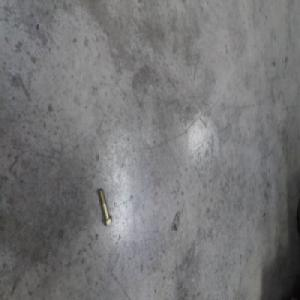Bolt: (96, 187, 113, 228)
